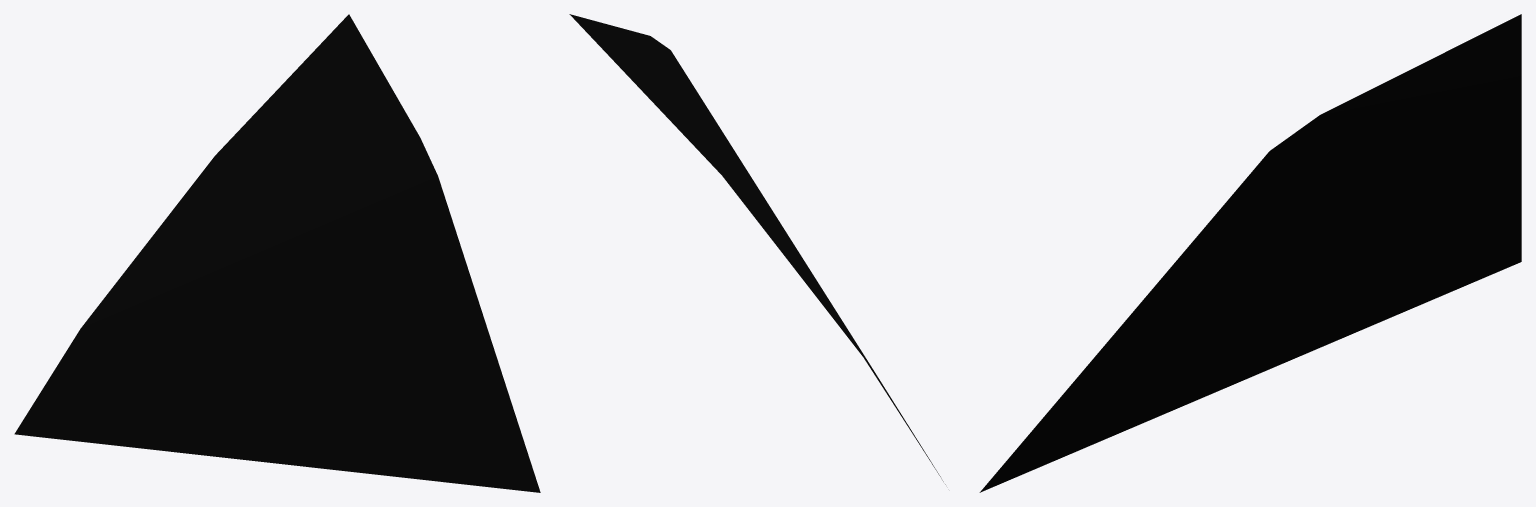
3 views of the same model, side by side, from view 1: azimuth 30°, elevation 25°; view 2: azimuth 150°, elevation 25°; view 3: azimuth 270°, elevation 25° (orthographic). The views are drawn at different scales.
Size of the model in its own units: 0.2749 by 0.2657 by 0.2726.
Materials: 1 (1 with a texture image).
